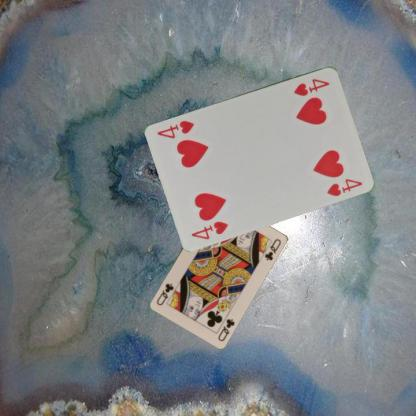4h: (189, 218, 230, 241), (291, 76, 331, 97)
Qc: (215, 316, 236, 342)
